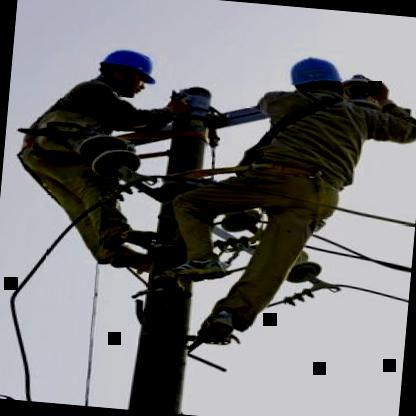helmet: (282, 48, 354, 112), (91, 41, 167, 99)
